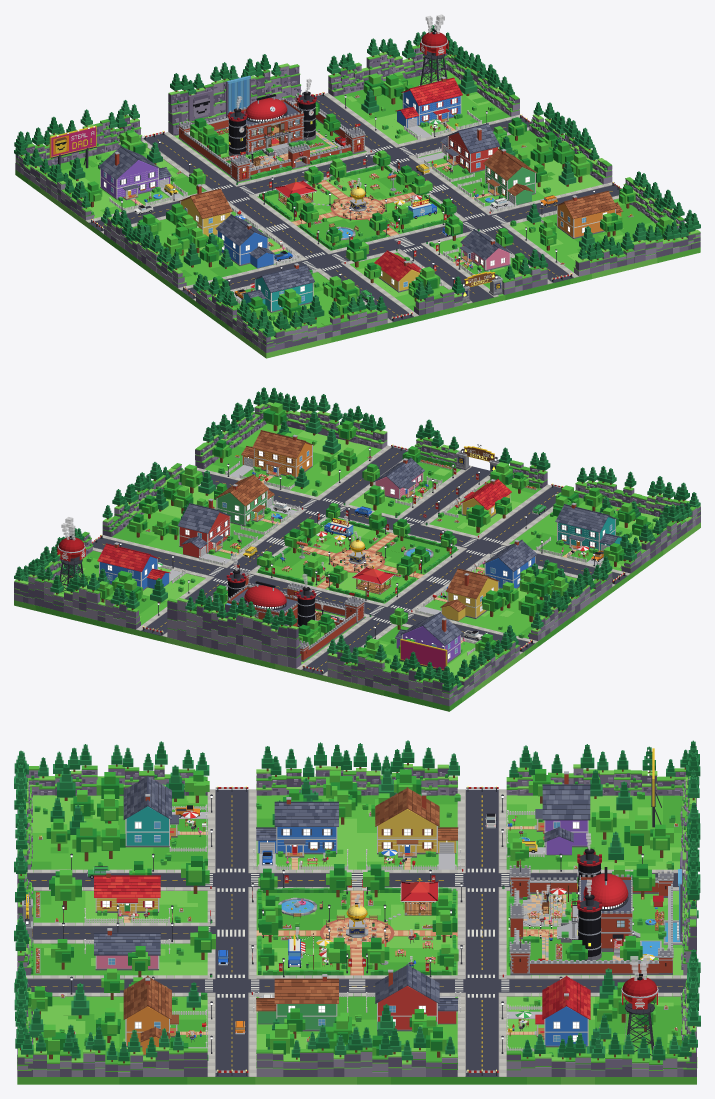
Rendered from GrillDadDistrict.fbx.
3 renders of one model, top to bottom at view 1: azimuth 30°, elevation 25°; view 2: azimuth 150°, elevation 25°; view 3: azimuth 270°, elevation 25°, orthographic. The views are drawn at different scales.
Visible parts, largest first — view 1: Roads_Asphalt_2_2_00, Roads_Asphalt_2_1_00, Roads_Asphalt_2_0_00, Roads_Asphalt_1_2_00, Cliffs_PineB_3_0_00, Cliffs_Pine_3_0_00, Roads_Asphalt_1_3_00, Cliffs_Pine_0_3_00, Cliffs_PineB_0_0_00, Cliffs_RockB_1_3_00, Cliffs_RockB_0_0_00, Terrain_Grass_0_1_00 (+67 smaller); view 2: Roads_Asphalt_2_2_00, Roads_Asphalt_2_1_00, Roads_Asphalt_2_0_00, Roads_Asphalt_1_2_00, Cliffs_Pine_0_3_00, Cliffs_Pine_3_0_00, Terrain_Grass_0_2_00, Cliffs_PineB_3_0_00, Roads_Asphalt_1_0_00, Cliffs_PineB_0_0_00, Cliffs_Rock_0_3_00, Cliffs_RockB_0_3_00 (+76 smaller); view 3: Roads_Asphalt_2_2_00, Roads_Asphalt_2_1_00, Roads_Asphalt_2_0_00, Terrain_Grass_1_0_00, Terrain_Grass_0_3_00, Terrain_Grass_0_0_00, Cliffs_Pine_3_3_00, Terrain_GrassB_3_3_00, Roads_Asphalt_1_2_00, Terrain_Grass_3_0_00, Terrain_Grass_3_3_00, Terrain_GrassB_1_1_00 (+164 smaller).
Boxes of the visible parts, bbox=[...] form: Roads_Asphalt_2_2_00: bbox=[89, 117, 530, 231]; Roads_Asphalt_2_1_00: bbox=[181, 185, 619, 298]; Roads_Asphalt_2_0_00: bbox=[400, 224, 573, 302]; Roads_Asphalt_1_2_00: bbox=[228, 196, 328, 259]; Cliffs_PineB_3_0_00: bbox=[587, 171, 700, 258]; Cliffs_Pine_3_0_00: bbox=[586, 171, 698, 259]; Roads_Asphalt_1_3_00: bbox=[143, 133, 235, 190]; Cliffs_Pine_0_3_00: bbox=[14, 110, 126, 200]; Cliffs_PineB_0_0_00: bbox=[208, 277, 376, 337]; Cliffs_RockB_1_3_00: bbox=[125, 76, 250, 135]; Cliffs_RockB_0_0_00: bbox=[200, 296, 377, 348]; Terrain_Grass_0_1_00: bbox=[141, 250, 275, 312]; Roads_Asphalt_2_2_00: bbox=[92, 509, 534, 652]; Roads_Asphalt_2_1_00: bbox=[202, 472, 626, 584]; Roads_Asphalt_2_0_00: bbox=[319, 447, 489, 524]; Roads_Asphalt_1_2_00: bbox=[387, 548, 487, 612]; Cliffs_Pine_0_3_00: bbox=[340, 639, 512, 690]; Cliffs_Pine_3_0_00: bbox=[206, 388, 376, 435]; Terrain_Grass_0_2_00: bbox=[437, 600, 543, 656]; Cliffs_PineB_3_0_00: bbox=[203, 387, 376, 441]; Roads_Asphalt_1_0_00: bbox=[480, 486, 561, 544]; Cliffs_PineB_0_0_00: bbox=[587, 466, 700, 542]; Cliffs_Rock_0_3_00: bbox=[343, 658, 510, 706]; Cliffs_RockB_0_3_00: bbox=[343, 651, 510, 696]; Roads_Asphalt_2_2_00: bbox=[248, 789, 498, 1076]; Roads_Asphalt_2_1_00: bbox=[215, 789, 248, 1076]; Roads_Asphalt_2_0_00: bbox=[27, 926, 215, 992]; Terrain_Grass_1_0_00: bbox=[17, 861, 187, 925]; Terrain_Grass_0_3_00: bbox=[527, 791, 682, 861]; Terrain_Grass_0_0_00: bbox=[31, 795, 187, 861]; Cliffs_Pine_3_3_00: bbox=[522, 960, 699, 1060]; Terrain_GrassB_3_3_00: bbox=[529, 1004, 682, 1051]; Roads_Asphalt_1_2_00: bbox=[248, 873, 465, 886]; Terrain_Grass_3_0_00: bbox=[17, 1005, 187, 1084]; Terrain_Grass_3_3_00: bbox=[527, 1019, 696, 1084]; Terrain_GrassB_1_1_00: bbox=[256, 891, 350, 932].
Bounding box in the file's own units: 505 × 85.55 × 505.
